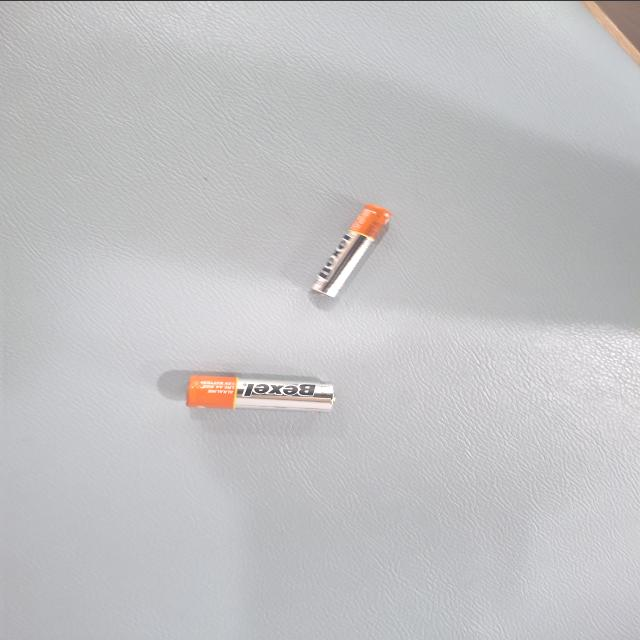AA: (304, 230, 452, 268)
AAA: (247, 343, 329, 438)
